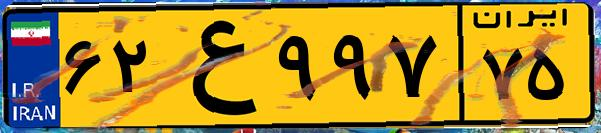2: (110, 28, 158, 98)
5: (525, 38, 570, 115)
6: (57, 26, 110, 100)
7: (385, 28, 445, 110), (475, 38, 525, 113)
9: (270, 28, 330, 110), (330, 28, 385, 110)
ع: (158, 12, 270, 120)
